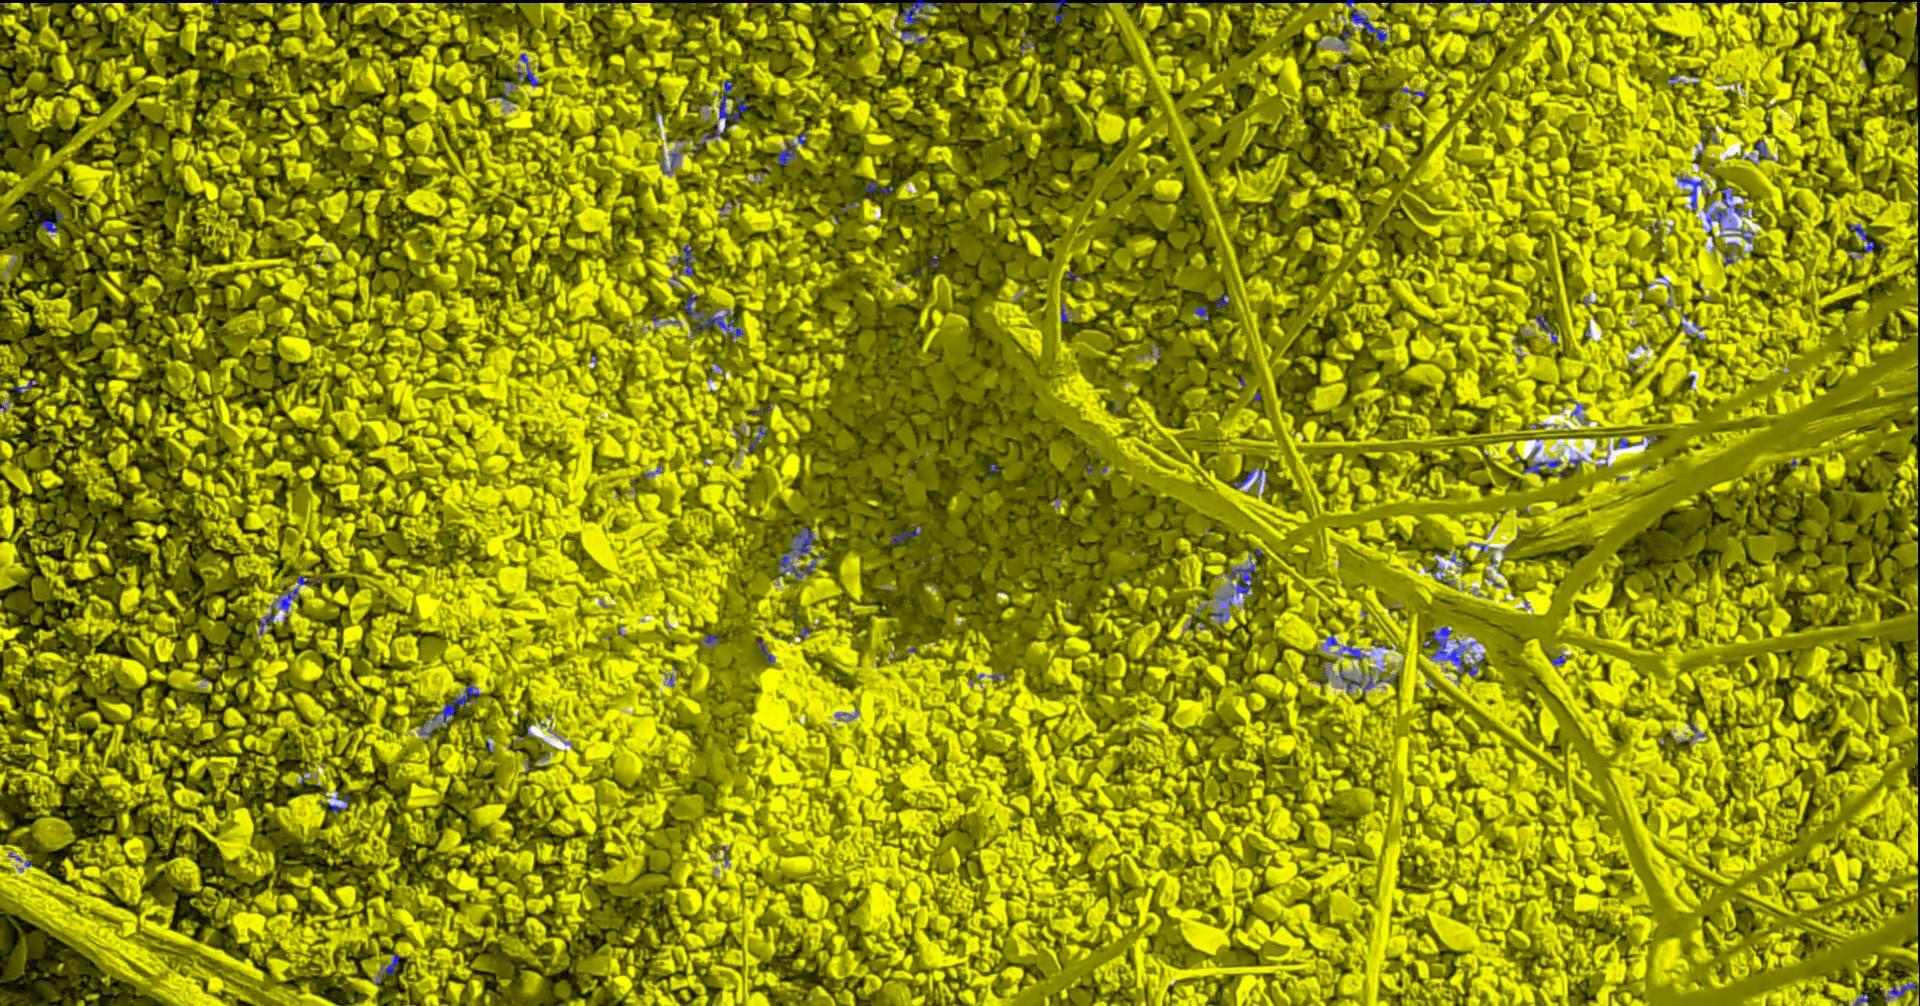ant: (1421, 626, 1477, 681), (683, 293, 743, 339), (777, 527, 815, 577), (430, 683, 479, 721), (719, 79, 750, 130), (1338, 669, 1396, 695), (900, 0, 952, 25), (1350, 8, 1385, 41), (1225, 563, 1258, 594), (1677, 175, 1703, 210), (516, 53, 538, 85), (695, 124, 723, 150), (1849, 224, 1874, 251), (1719, 185, 1743, 215), (676, 244, 697, 276), (1232, 470, 1266, 488), (1884, 983, 1919, 1001), (1535, 314, 1556, 343), (1523, 460, 1561, 475), (1043, 0, 1069, 22), (319, 795, 349, 813), (258, 602, 274, 634), (777, 138, 796, 165), (889, 527, 921, 542), (1705, 210, 1726, 232), (279, 587, 298, 611), (41, 211, 62, 231), (756, 639, 775, 662), (865, 180, 893, 194), (381, 953, 399, 974), (11, 379, 36, 392), (1342, 645, 1364, 661), (1736, 227, 1752, 243), (1754, 141, 1768, 158), (296, 575, 320, 584), (1215, 293, 1229, 309), (1194, 305, 1208, 320)
